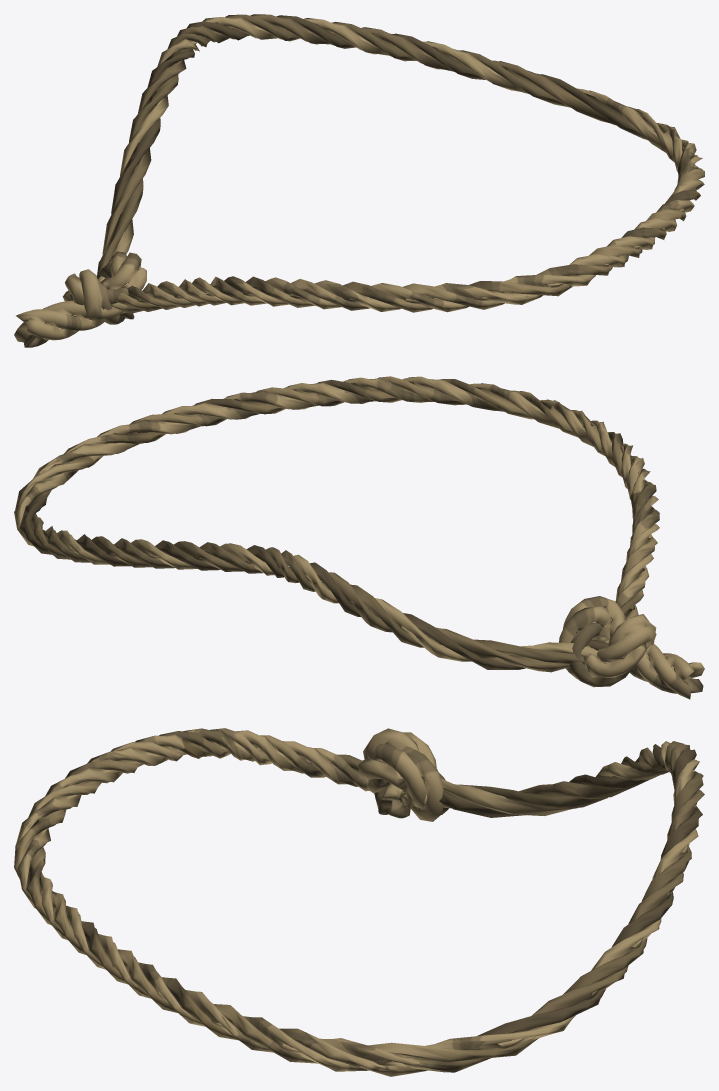
File: rope tip pringle .fbx
3 views of the same model, one above another, from view 1: azimuth 30°, elevation 25°; view 2: azimuth 150°, elevation 25°; view 3: azimuth 270°, elevation 25° (orthographic). The views are drawn at different scales.
Visible parts, largest first — view 1: PringleLasso, Knot.001; view 2: PringleLasso, Knot.001; view 3: PringleLasso, Knot.001.
Boxes of the visible parts, x1,y1,x2,y2 form: PringleLasso: (97, 14, 704, 313); Knot.001: (14, 251, 146, 347); PringleLasso: (14, 376, 659, 672); Knot.001: (559, 596, 704, 699); PringleLasso: (14, 728, 704, 1076); Knot.001: (358, 728, 448, 821).
Bounding box in the file's own units: 450 × 568 × 136.
